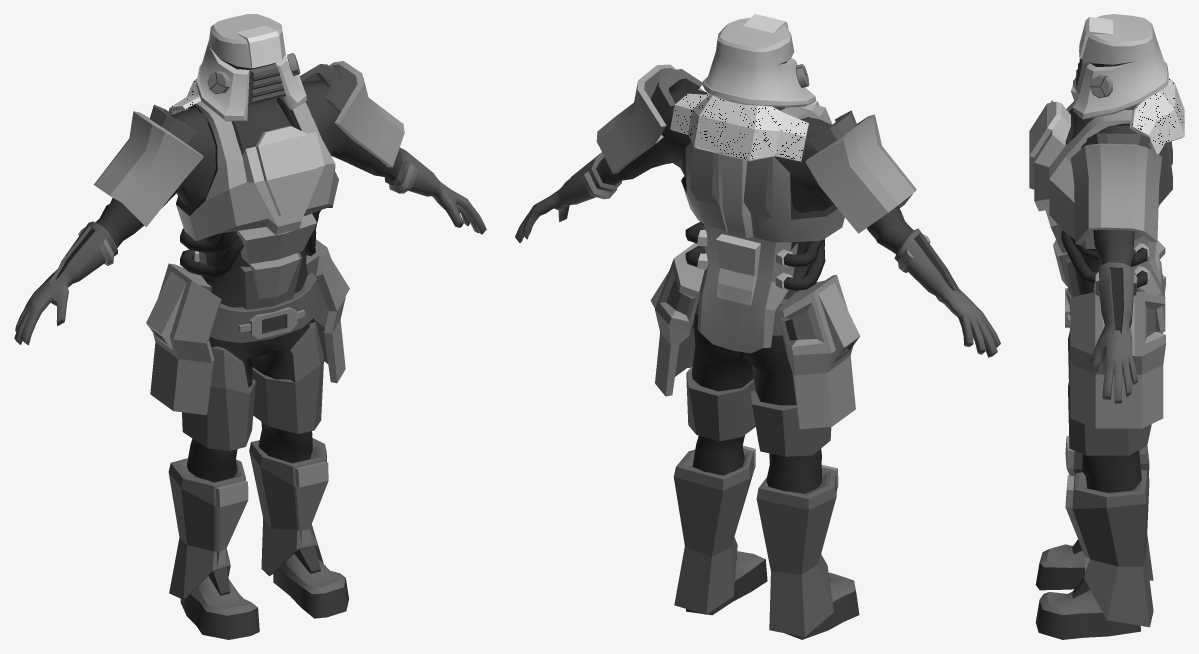
The model's file is enemy_test.FBX.
3 renders of one model, left to right at view 1: azimuth 30°, elevation 25°; view 2: azimuth 150°, elevation 25°; view 3: azimuth 270°, elevation 25°, orthographic. The views are drawn at different scales.
Visible parts, largest first — view 1: test_enemy_armor, test_enemy_base; view 2: test_enemy_armor, test_enemy_base; view 3: test_enemy_armor, test_enemy_base.
Boxes of the visible parts, left/top/right/bottom form: test_enemy_armor: left=94, top=14, right=404, bottom=639; test_enemy_base: left=14, top=80, right=486, bottom=482; test_enemy_armor: left=596, top=14, right=916, bottom=639; test_enemy_base: left=515, top=89, right=1000, bottom=493; test_enemy_armor: left=1029, top=14, right=1184, bottom=639; test_enemy_base: left=1066, top=105, right=1150, bottom=492.
Bounding box in the file's own units: 66.11 × 77.38 × 18.81.
